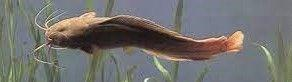Catfish: (31, 3, 247, 77)
